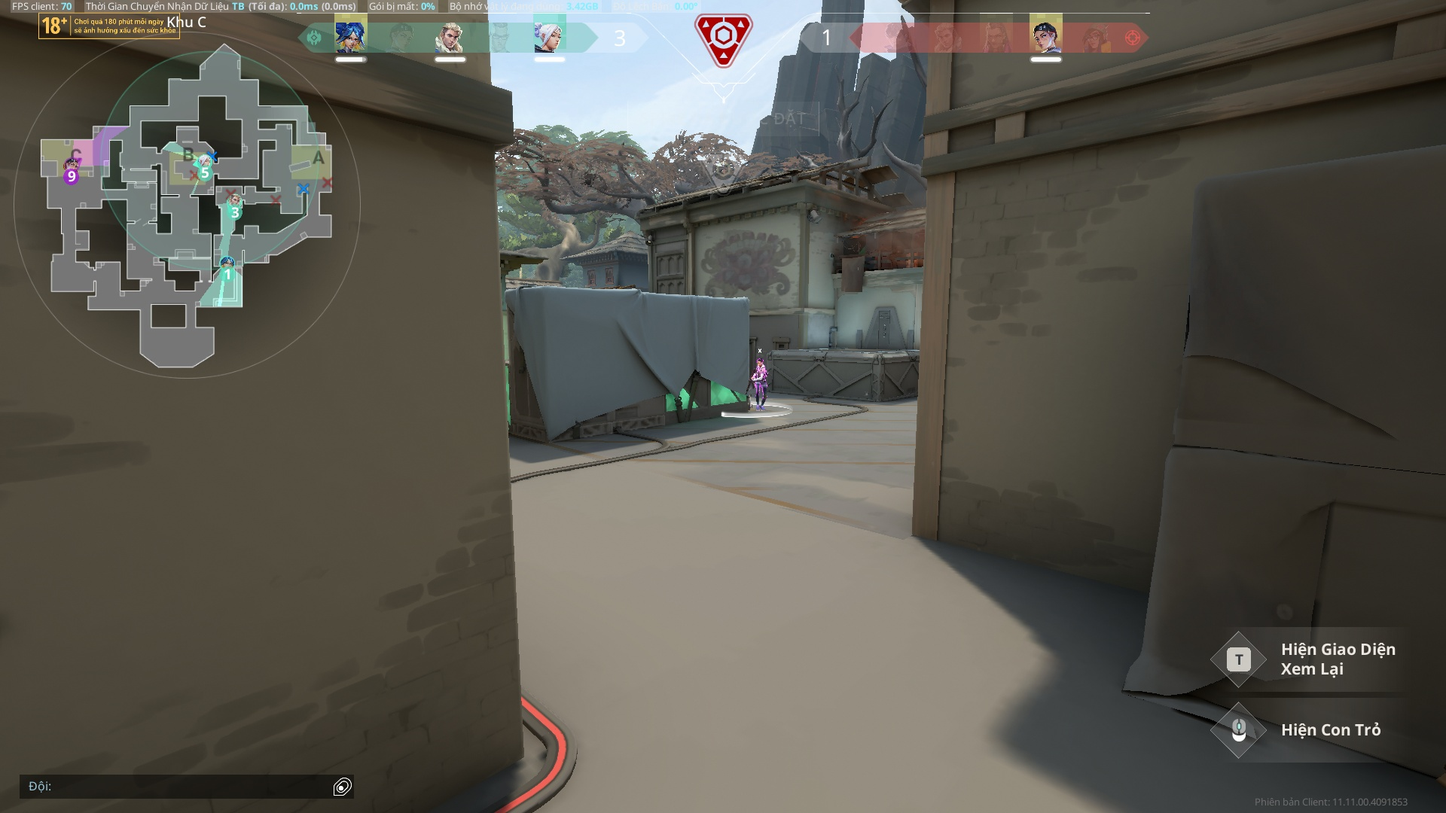body: (756, 364, 767, 379)
head: (755, 357, 764, 367)
